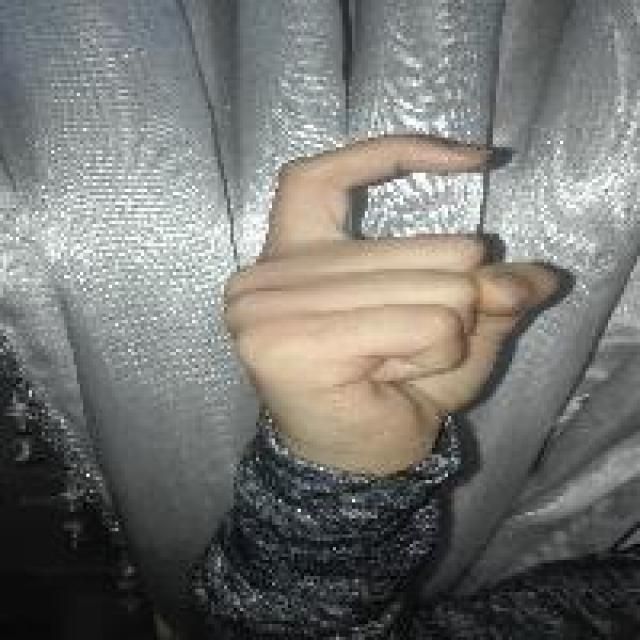X: (216, 130, 568, 446)
